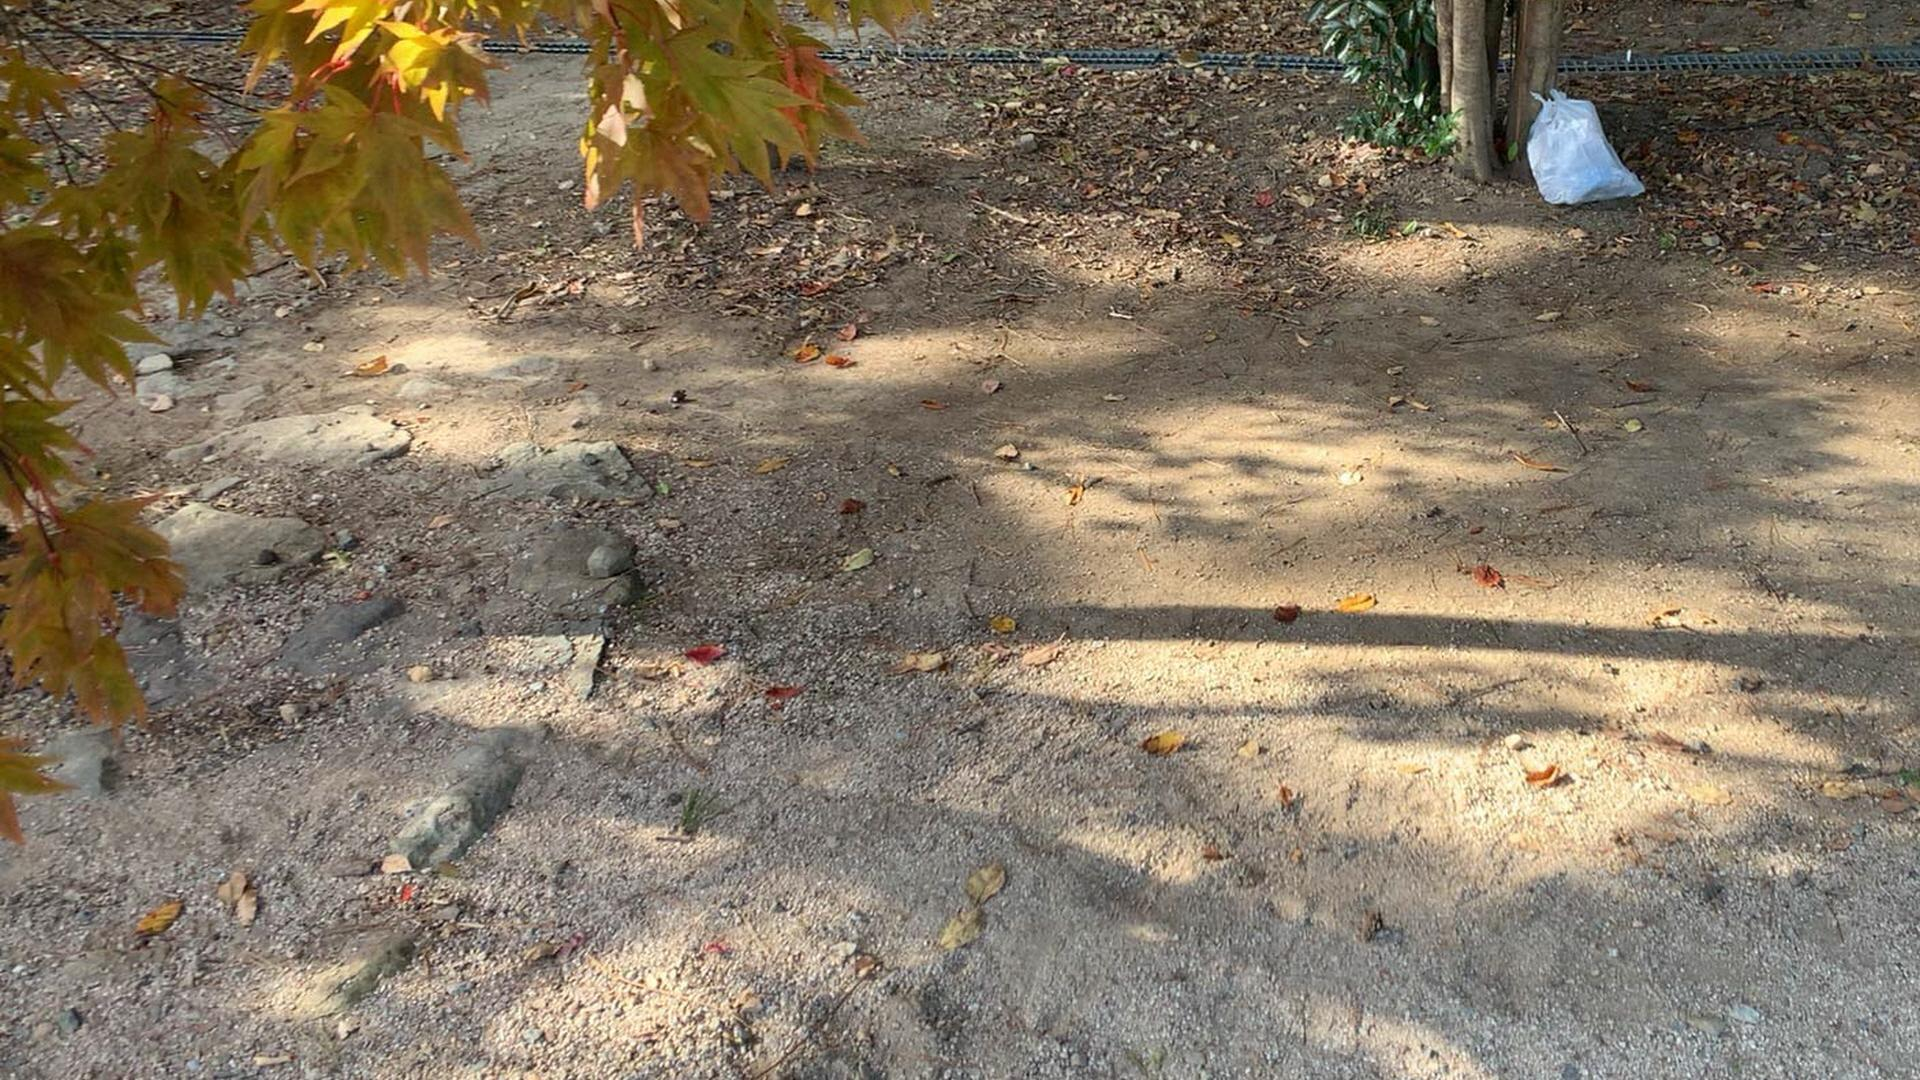white_bag: (1518, 80, 1654, 216)
